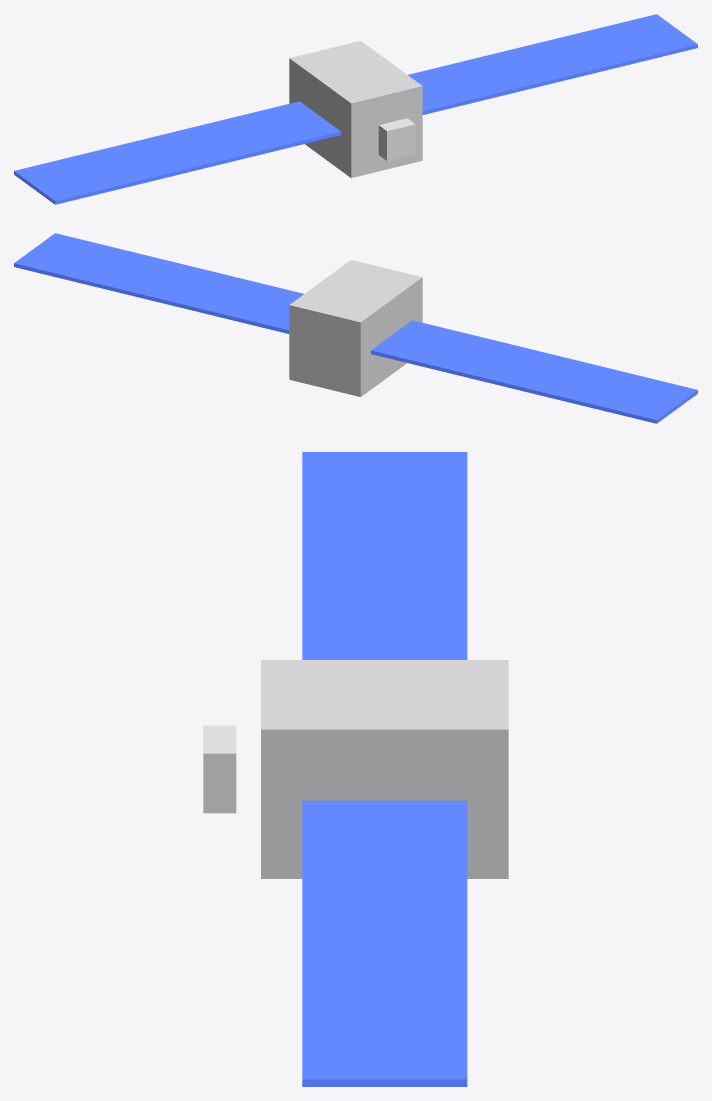
The model's file is satellite.glb.
The picture shows the model from 3 angles, top to bottom: view 1: azimuth 30°, elevation 25°; view 2: azimuth 150°, elevation 25°; view 3: azimuth 270°, elevation 25°; orthographic projection. The views are drawn at different scales.
Size of the model in its own units: 9 by 1 by 1.85.
